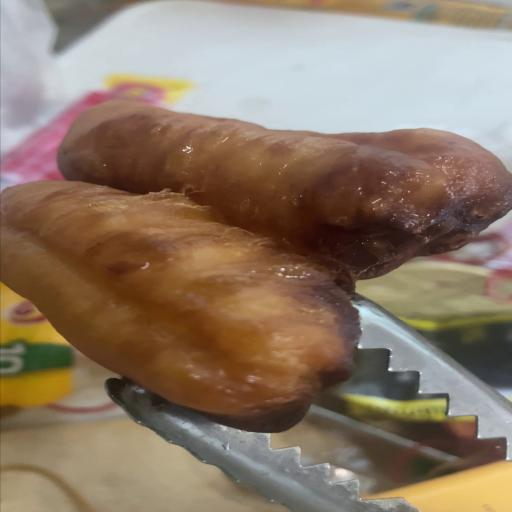street_burnt_defect: (0, 100, 512, 433)
